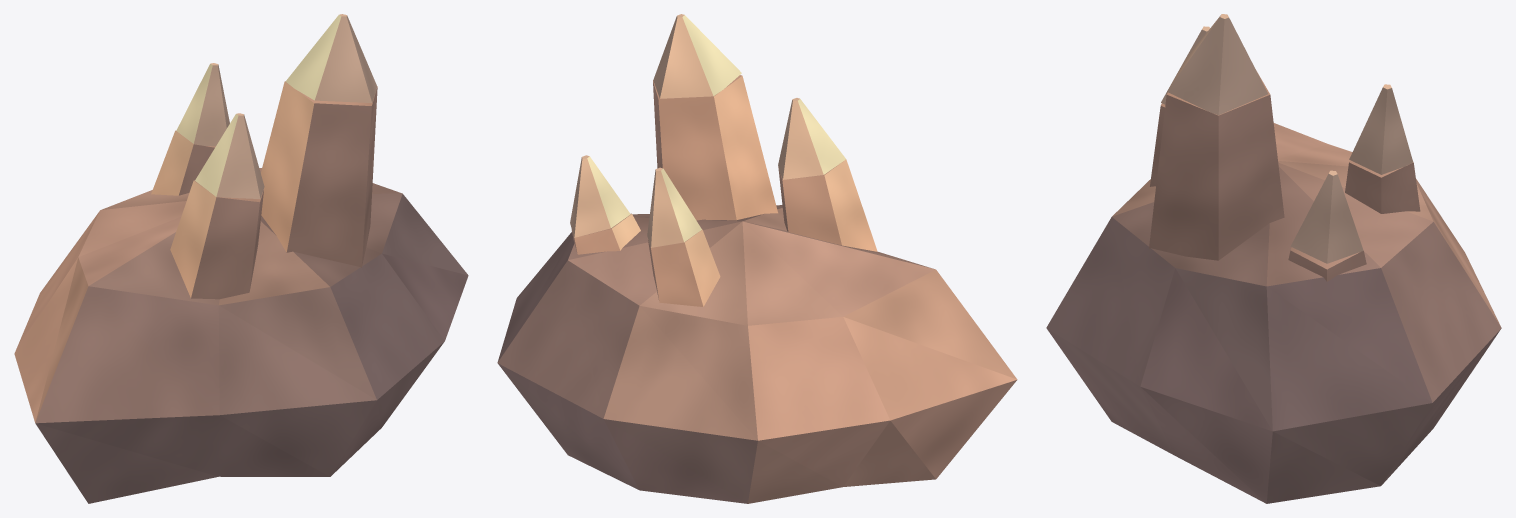
Rendered from find_gorge_quartz.glb.
3 renders of one model, left to right at view 1: azimuth 30°, elevation 25°; view 2: azimuth 150°, elevation 25°; view 3: azimuth 270°, elevation 25°, orthographic. The views are drawn at different scales.
Visible parts, largest first — view 1: Klammquarz · helle Kristalle und Kupferader; view 2: Klammquarz · helle Kristalle und Kupferader; view 3: Klammquarz · helle Kristalle und Kupferader.
Part boxes in pixels (x1=…): Klammquarz · helle Kristalle und Kupferader: x1=14, y1=14, x2=468, y2=503; Klammquarz · helle Kristalle und Kupferader: x1=497, y1=14, x2=1017, y2=503; Klammquarz · helle Kristalle und Kupferader: x1=1046, y1=14, x2=1501, y2=503.
Size of the model in its own units: 0.9845 by 0.8884 by 0.7552.
1 material, 1 textured.
